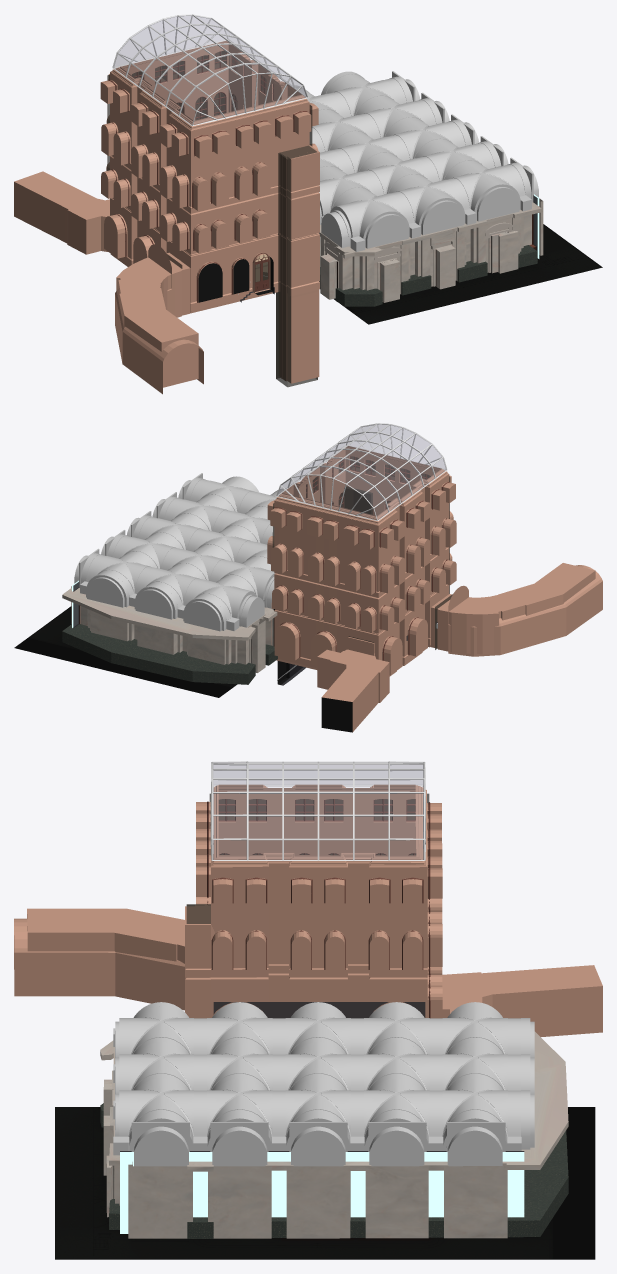
File: RIGAS-BIRZA-bez-sliedem.glb
3 views of the same model, one above another, from view 1: azimuth 30°, elevation 25°; view 2: azimuth 150°, elevation 25°; view 3: azimuth 270°, elevation 25° (orthographic). The views are drawn at different scales.
Visible parts, largest first — view 1: foaje.005, Cylinder.032, KUPOLS.001, Curve.008, Plane.083, exhib.hall plan.001, Plane.069, KUPOLS, Cube.070, Plane.084, Curve.005, Plane.066 (+5 smaller); view 2: foaje.005, Cylinder.032, KUPOLS.001, Plane.083, Plane.069, Curve.005, Plane.084, Curve.008, KUPOLS, exhib.hall plan.001, Curve.006, Cylinder.029 (+7 smaller); view 3: foaje.005, Cylinder.032, Curve.008, exhib.hall plan.001, KUPOLS.001, Plane.069, Plane.084, Plane.083, KUPOLS, ara-gaisma, Curve.006, Curve.005 (+13 smaller).
Part boxes in pixels (bbox=[...]): foaje.005: bbox=[100, 40, 319, 383]; Cylinder.032: bbox=[296, 74, 525, 235]; KUPOLS.001: bbox=[113, 15, 306, 124]; Curve.008: bbox=[320, 198, 543, 302]; Plane.083: bbox=[116, 252, 198, 387]; exhib.hall plan.001: bbox=[320, 224, 602, 324]; Plane.069: bbox=[14, 171, 109, 254]; KUPOLS: bbox=[112, 14, 308, 126]; Cube.070: bbox=[276, 145, 317, 387]; Plane.084: bbox=[115, 244, 203, 394]; Curve.005: bbox=[319, 245, 537, 306]; Plane.066: bbox=[107, 51, 312, 170]; foaje.005: bbox=[267, 446, 456, 676]; Cylinder.032: bbox=[86, 478, 282, 619]; KUPOLS.001: bbox=[277, 424, 446, 519]; Plane.083: bbox=[431, 563, 595, 654]; Plane.069: bbox=[317, 637, 389, 732]; Curve.005: bbox=[62, 624, 277, 684]; Plane.084: bbox=[448, 565, 602, 656]; Curve.008: bbox=[71, 586, 273, 672]; KUPOLS: bbox=[276, 423, 447, 520]; exhib.hall plan.001: bbox=[14, 606, 237, 697]; Curve.006: bbox=[62, 588, 277, 640]; Cylinder.029: bbox=[183, 596, 226, 631]; foaje.005: bbox=[185, 784, 442, 1018]; Cylinder.032: bbox=[128, 1006, 520, 1141]; Curve.008: bbox=[103, 1079, 507, 1238]; exhib.hall plan.001: bbox=[55, 1107, 595, 1259]; KUPOLS.001: bbox=[213, 762, 423, 859]; Plane.069: bbox=[442, 965, 602, 1036]; Plane.084: bbox=[14, 918, 184, 1010]; Plane.083: bbox=[27, 908, 184, 963]; KUPOLS: bbox=[210, 761, 425, 860]; ara-gaisma: bbox=[120, 1152, 524, 1233]; Curve.006: bbox=[100, 1031, 568, 1171]; Curve.005: bbox=[100, 1103, 568, 1238].
Bounding box in the file's own units: 46.6 × 30.54 × 39.17.
31 materials, 15 textured.
